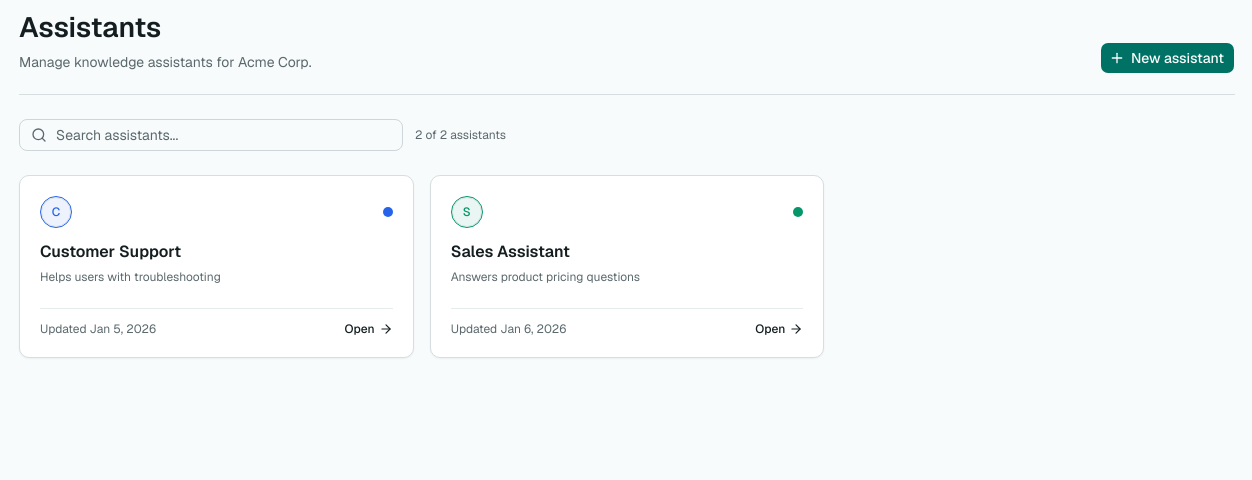
Test: AssistantsPage › renders no matching assistants when query matches nothing and clears search
The image size is (1252, 480).
Type "Nonexistent" into the field labelled "Search assistants".
click(211, 135); type("Nonexistent")  # box [19, 119, 403, 151]
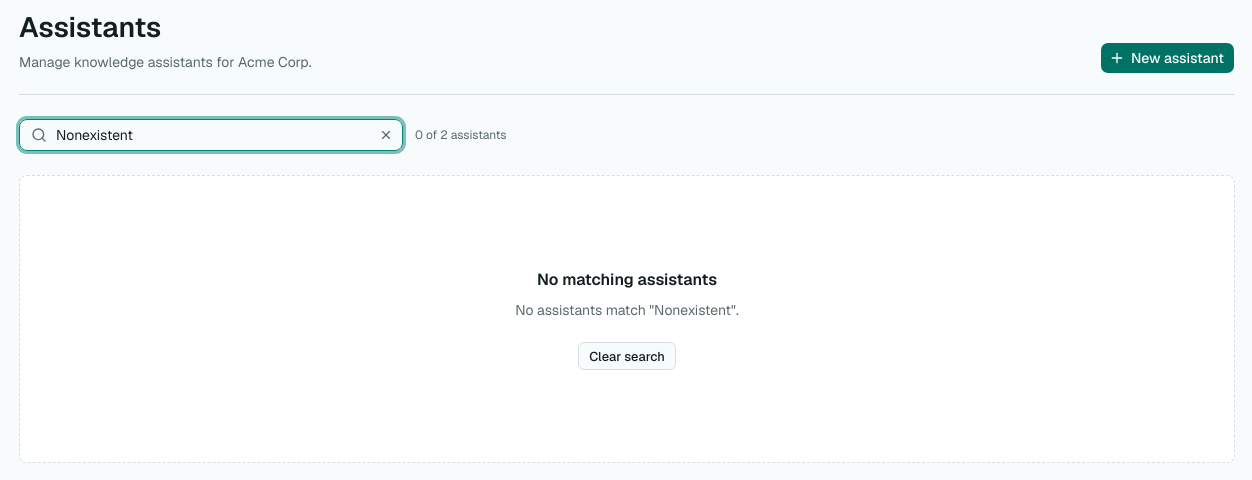
Expected: the heading "No matching assistants" is shown, [537, 268, 717, 292]
Click the button named "Clear search".
click(386, 135)  # box [379, 128, 393, 142]
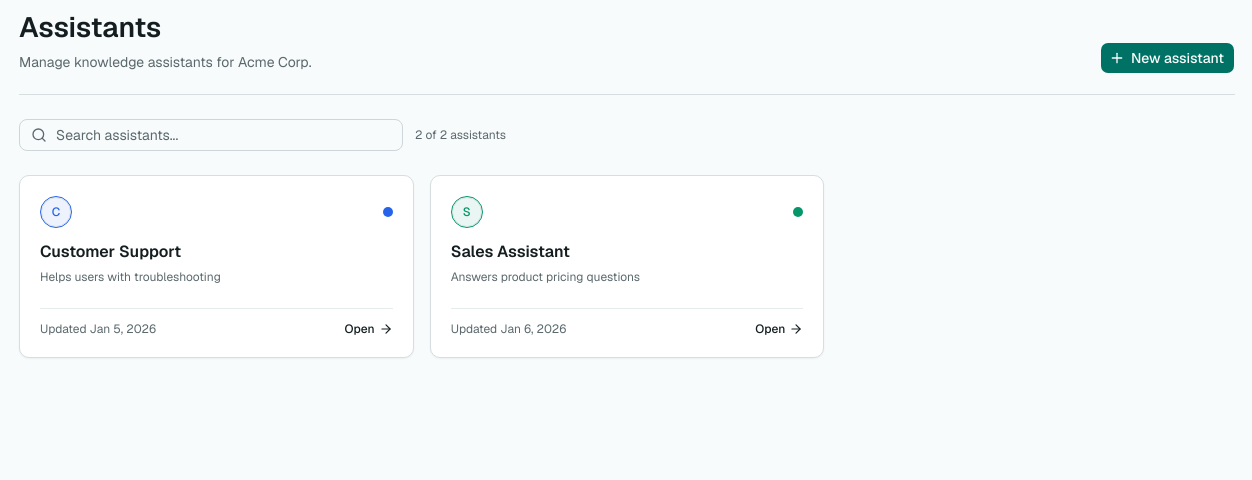
Expected: the heading "Customer Support" is shown, [40, 241, 181, 262]
Expected: the heading "Sales Assistant" is shown, [451, 241, 570, 262]
